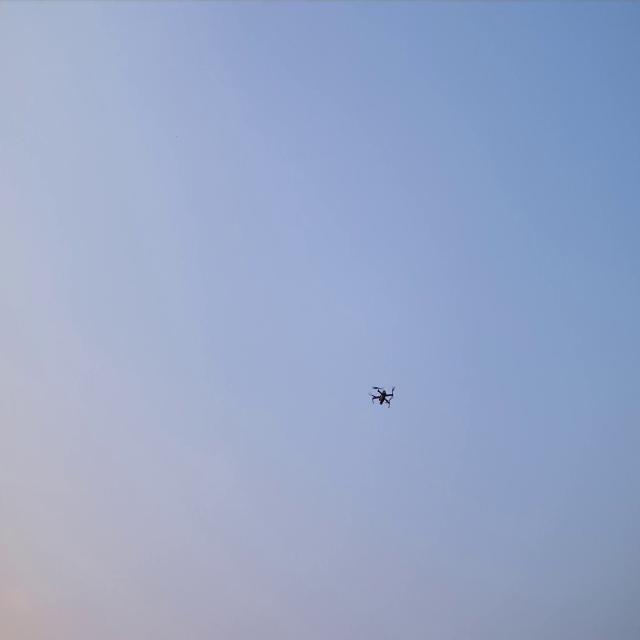UAV: (367, 383, 397, 409)
